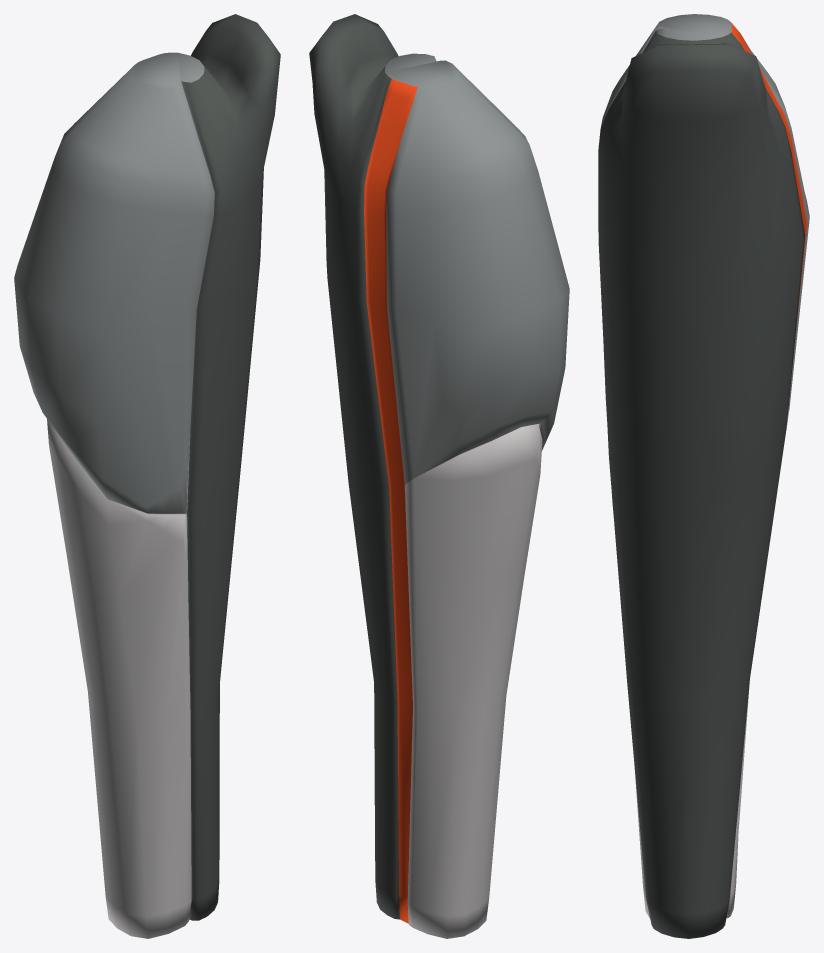
File: xsens_LeftLowerLeg.dae
The picture shows the model from 3 angles, left to right: view 1: azimuth 30°, elevation 25°; view 2: azimuth 150°, elevation 25°; view 3: azimuth 270°, elevation 25°; orthographic projection. The views are drawn at different scales.
Parts seen in each view (by area): view 1: LeftLowerLeg; view 2: LeftLowerLeg; view 3: LeftLowerLeg.
Boxes of the visible parts, left/top/right/bottom form: LeftLowerLeg: left=14, top=14, right=280, bottom=938; LeftLowerLeg: left=309, top=14, right=569, bottom=938; LeftLowerLeg: left=598, top=14, right=809, bottom=938.
Bounding box in the file's own units: 0.1213 × 0.0872 × 0.4212.
